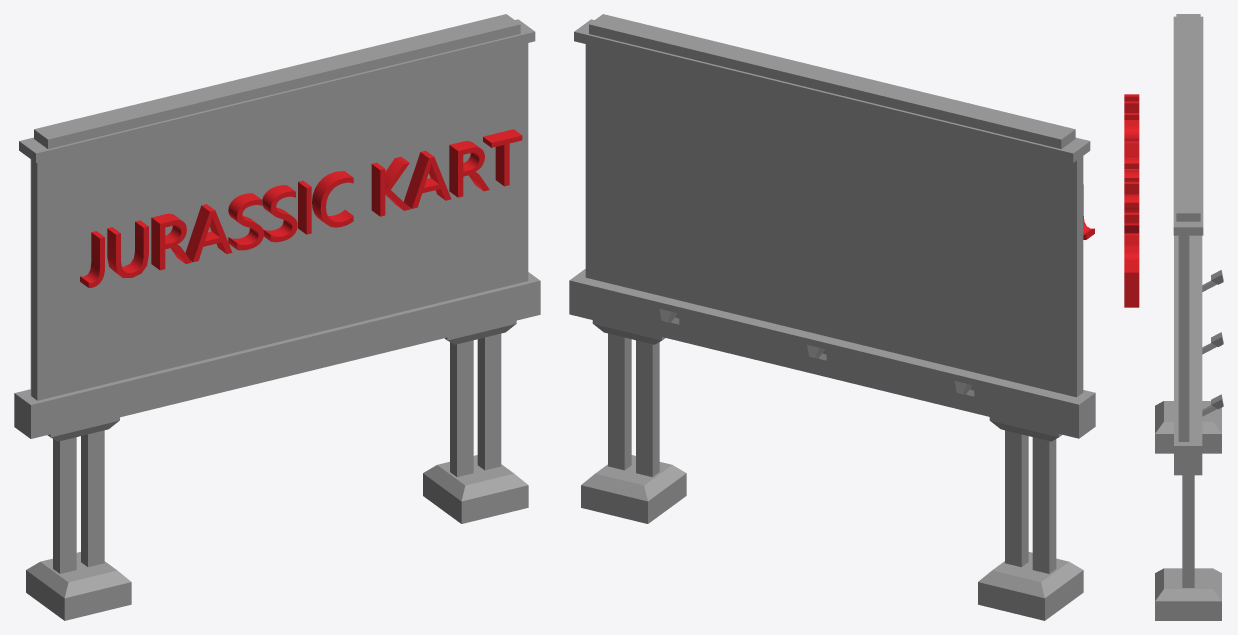
Rendered from billboard_3D_basic.fbx.
3 views of the same model, side by side, from view 1: azimuth 30°, elevation 25°; view 2: azimuth 150°, elevation 25°; view 3: azimuth 270°, elevation 25° (orthographic). The views are drawn at different scales.
Visible parts, largest first — view 1: node_id8, node_id36; view 2: node_id6, node_id8; view 3: node_id8, node_id36.
Boxes of the visible parts, x1,y1,x2,y2 form: node_id8: (14,14,540,620); node_id36: (80,129,522,287); node_id6: (585,44,1076,397); node_id8: (569,14,1095,620); node_id8: (1155,14,1223,620); node_id36: (1124,94,1139,307).
Bounding box in the file's own units: 0.512 × 0.4545 × 0.0997.
